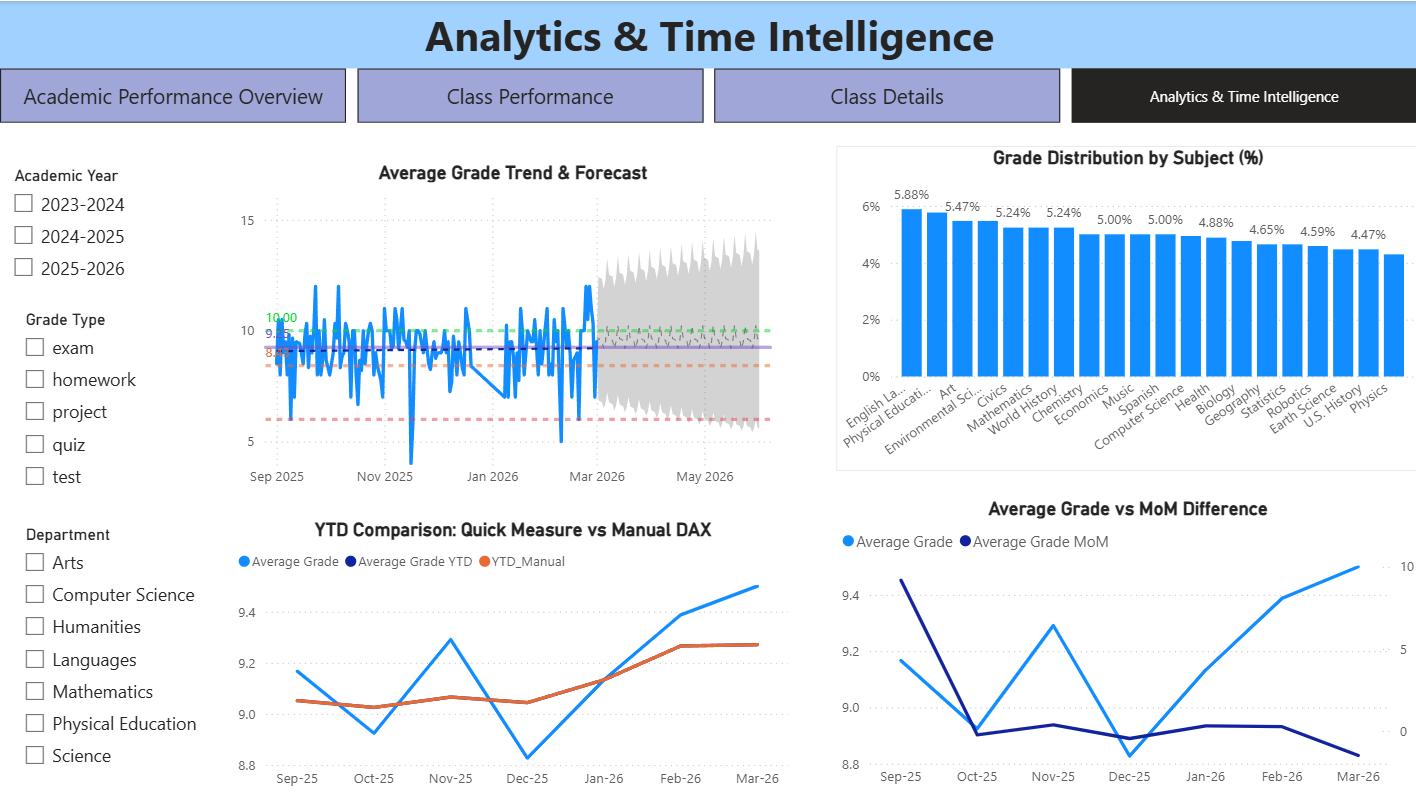

What the dashboard file says about the page in this screenshot:
{"tool":"powerbi","page":{"name":"Analytics & Time Intelligence","canvas":[1280,720],"ordinal":4},"visuals":[{"type":"lineChart","title":"Average Grade Trend & Forecast","fields":{"Y":["_Measures.Average Grade"],"Category":["calendar.Date"]},"box":[209.3,144.6,506.2,303.2],"z":0},{"type":"columnChart","title":"Grade Distribution by Subject (%)","fields":{"Category":["subjects.subject_name"],"Y":["CountNonNull(grades.grade_id)"]},"box":[753.5,130.7,526.5,293],"z":1000},{"type":"lineChart","title":"YTD Comparison: Quick Measure vs Manual DAX","fields":{"Category":["calendar.Year_Month"],"Y":["_Measures.Average Grade","_Measures.Average Grade YTD","_Measures.YTD_Manual"]},"box":[209.3,466.8,506.2,252.4],"z":2000},{"type":"lineChart","title":"Average Grade vs MoM Difference","fields":{"Category":["calendar.Year_Month"],"Y":["_Measures.Average Grade"],"Y2":["_Measures.Average Grade MoM"]},"box":[753.5,447.8,526.5,270.2],"z":3000},{"type":"slicer","fields":{"Values":["periods.academic_year"]},"box":[0,144.6,141.5,118.7],"z":4000},{"type":"textbox","box":[0,0,1280,60.9],"z":5000},{"type":"slicer","fields":{"Values":["grades.grade_type"]},"box":[10.7,274,141.5,173.5],"z":6000},{"type":"slicer","fields":{"Values":["subjects.department_hint"]},"box":[10.7,467.3,190.2,251.1],"z":7000},{"type":"pageNavigator","box":[0,60.9,1280,49.5],"z":8000}]}

Visuals, with their boxes in screenshot pixels (x1, y1, x2, y2), scaled from the page's 1280x720 canvas onto the 1416x795 screenshot:
"Average Grade Trend & Forecast" lineChart: BBox(232, 160, 792, 494)
"Grade Distribution by Subject (%)" columnChart: BBox(834, 144, 1415, 468)
"YTD Comparison: Quick Measure vs Manual DAX" lineChart: BBox(232, 515, 792, 794)
"Average Grade vs MoM Difference" lineChart: BBox(834, 494, 1415, 793)
slicer - periods.academic_year: BBox(0, 160, 157, 291)
textbox: BBox(0, 0, 1415, 67)
slicer - grades.grade_type: BBox(12, 303, 168, 494)
slicer - subjects.department_hint: BBox(12, 516, 222, 793)
pageNavigator: BBox(0, 67, 1415, 122)
